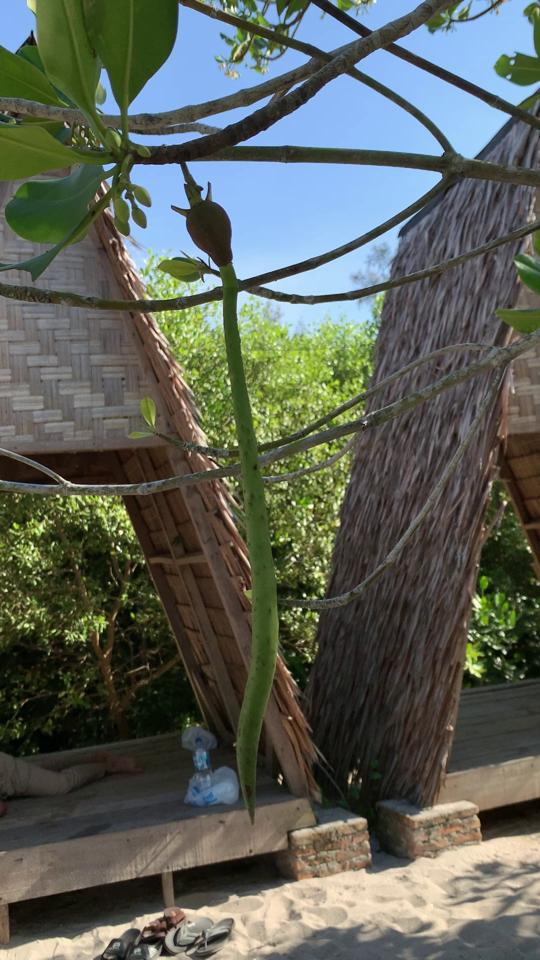setengah matang: (165, 181, 294, 826)
